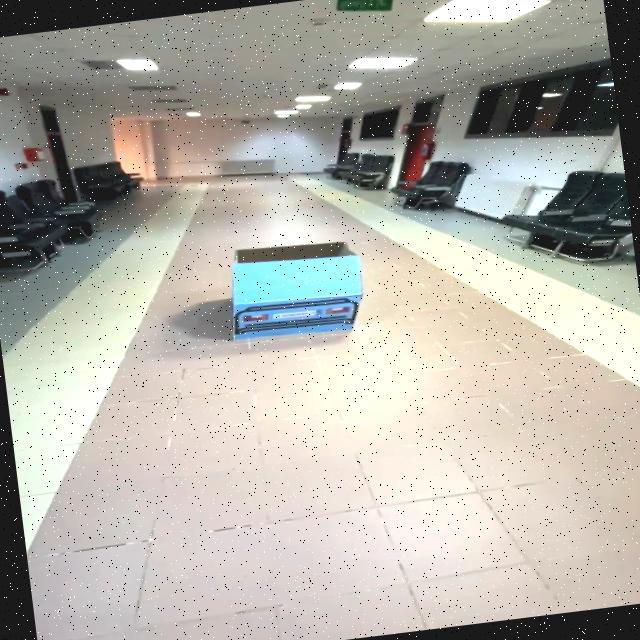blue_car: (172, 221, 404, 374)
